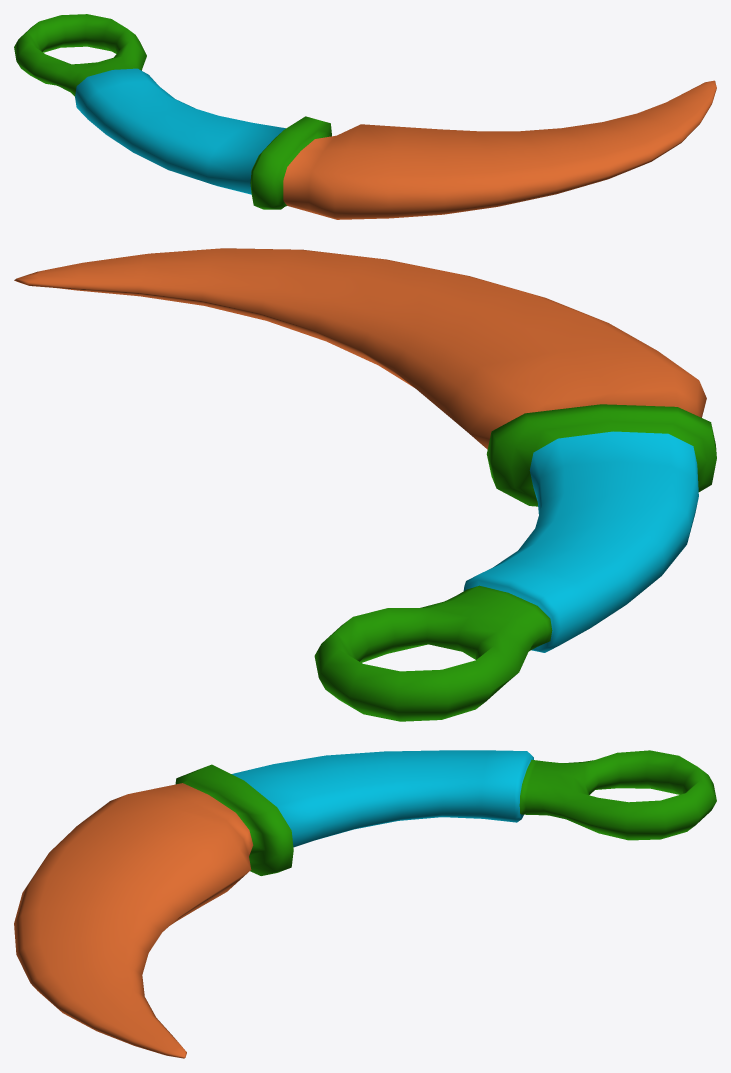
The model's file is karambit_low.fbx.
3 views of the same model, one above another, from view 1: azimuth 30°, elevation 25°; view 2: azimuth 150°, elevation 25°; view 3: azimuth 270°, elevation 25° (orthographic). The views are drawn at different scales.
Parts seen in each view (by area): view 1: Karambit_low; view 2: Karambit_low; view 3: Karambit_low.
Part boxes in pixels (x1,y1,x2,y2): Karambit_low: (14,14,716,219); Karambit_low: (14,248,716,721); Karambit_low: (14,750,716,1058).
Size of the model in its own units: 1370 by 168 by 1375.
